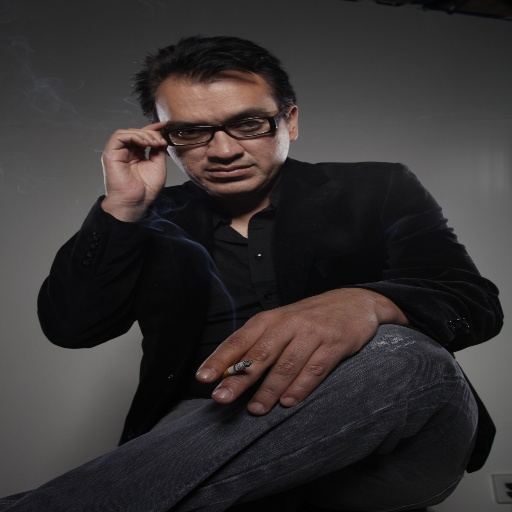hand: (193, 288, 422, 430), (100, 120, 167, 203)
